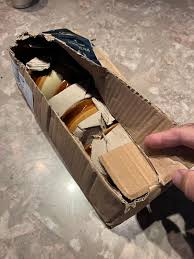damaged package: (12, 36, 193, 204)
